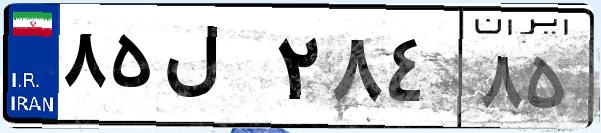2: (270, 28, 330, 110)
4: (385, 28, 445, 110)
5: (525, 38, 570, 115), (110, 28, 158, 98)
8: (330, 28, 385, 110), (57, 26, 110, 100), (475, 38, 525, 113)
ل: (158, 20, 270, 120)
